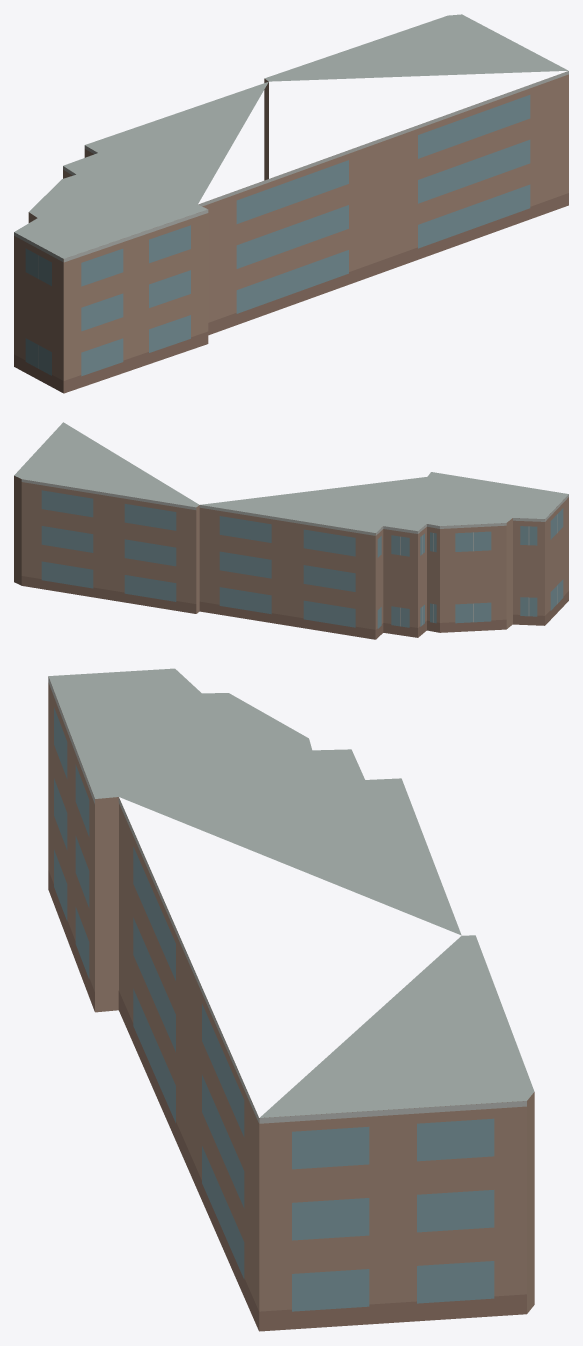
Rendered from survey-upis-32588119.glb.
3 views of the same model, one above another, from view 1: azimuth 30°, elevation 25°; view 2: azimuth 150°, elevation 25°; view 3: azimuth 270°, elevation 25° (orthographic). The views are drawn at different scales.
Parts seen in each view (by area): view 1: survey-upis-32588119.tmp; view 2: survey-upis-32588119.tmp; view 3: survey-upis-32588119.tmp.
Boxes of the visible parts, <box> form: survey-upis-32588119.tmp: <box>14,14,568,393</box>; survey-upis-32588119.tmp: <box>14,422,568,639</box>; survey-upis-32588119.tmp: <box>48,668,534,1331</box>.
Size of the model in its own units: 41.37 by 9.15 by 18.91.
